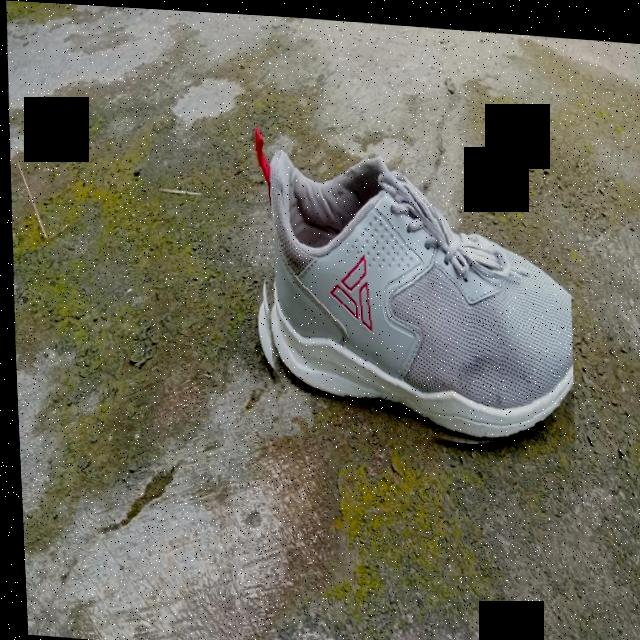shoe: (244, 125, 576, 451)
